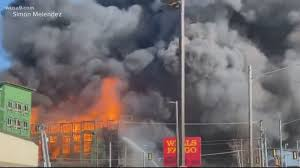smoke: (5, 1, 300, 131)
